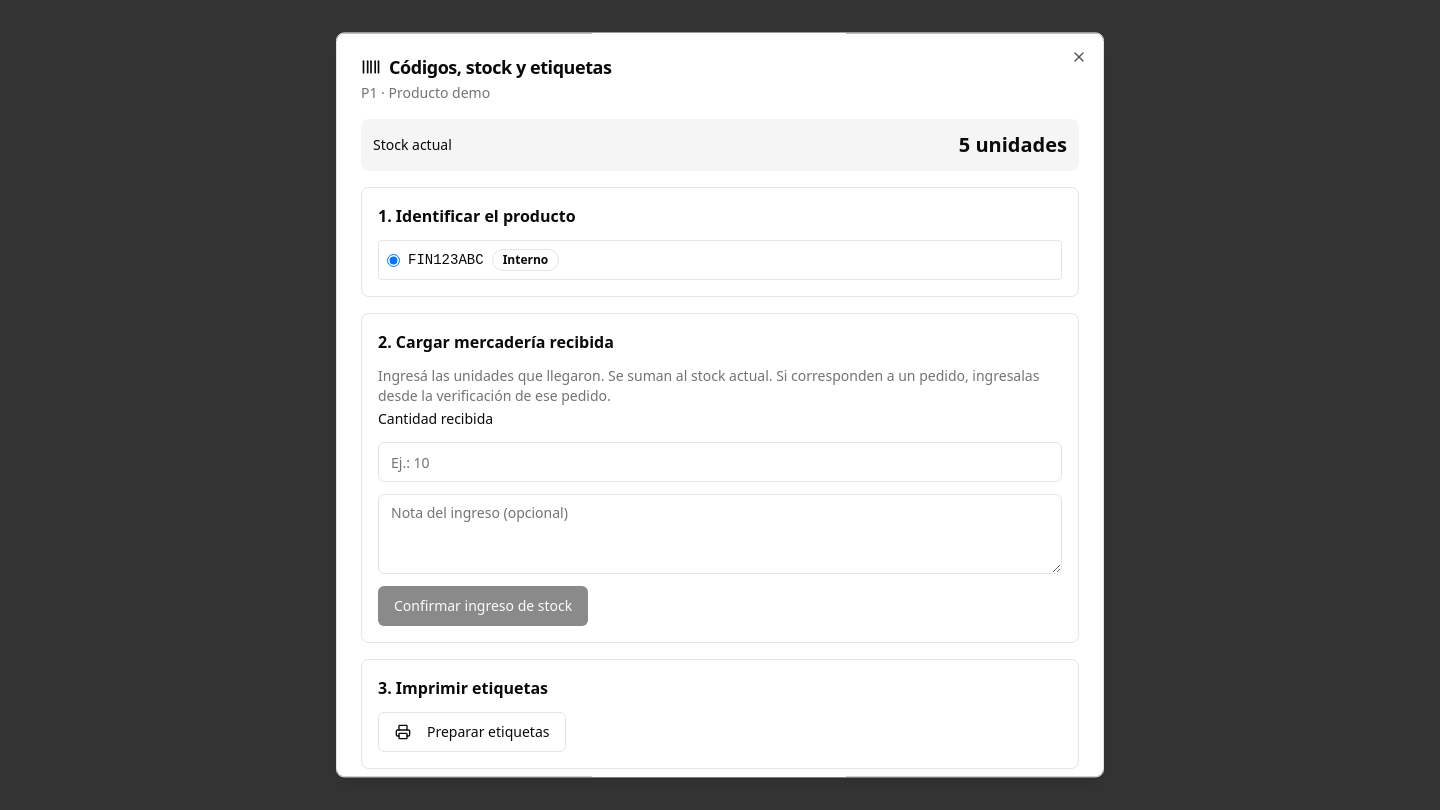
Test: respects existing seller permissions on barcode creation while allowing stock entry
Expected: the text "FIN123ABC" is shown, x1=408 y1=250 x2=484 y2=270
In the number field labelled "Cantidad recibida": (720, 462) x1=378 y1=442 x2=1062 y2=482, type "3"
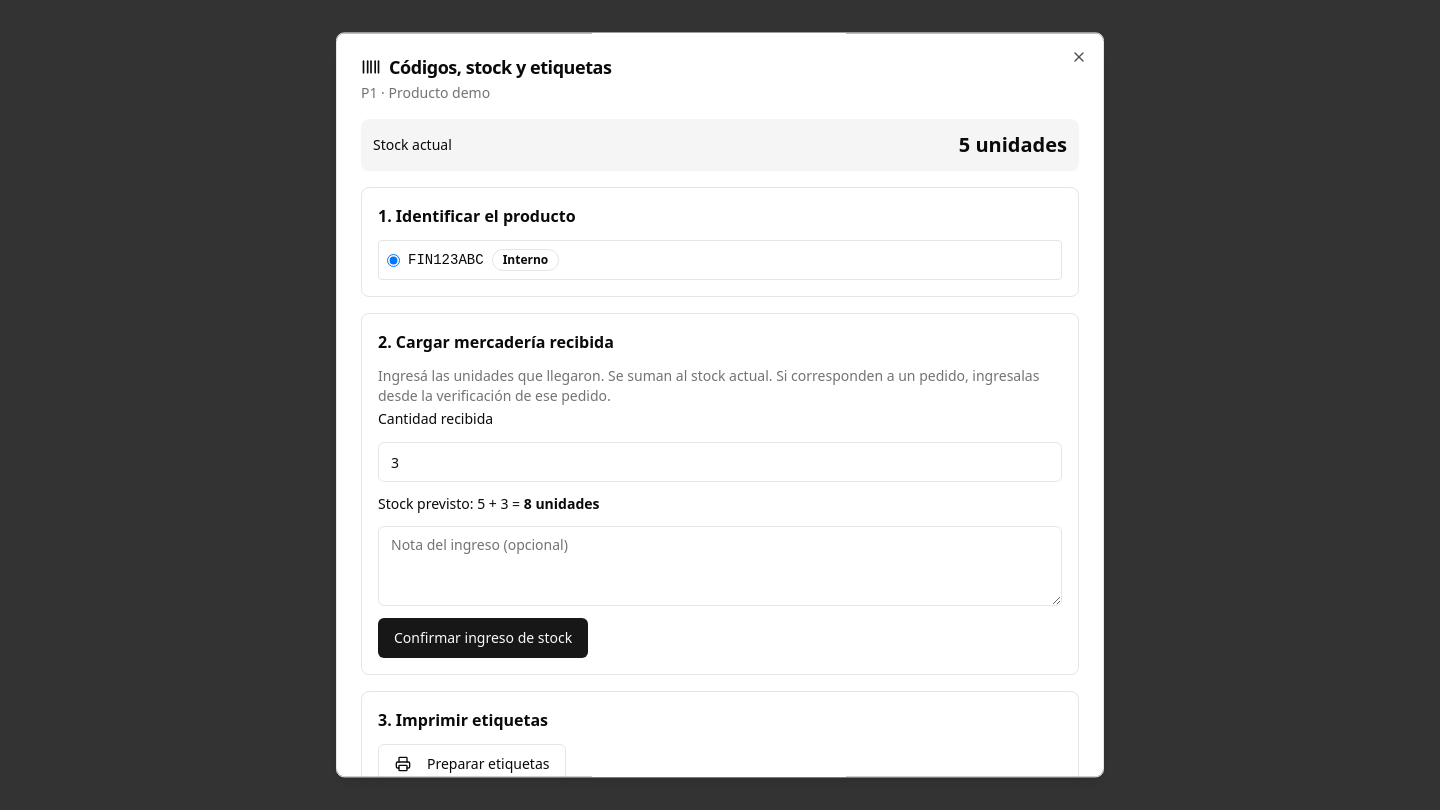
Expected: the button "Confirmar ingreso de stock" is enabled, x1=378 y1=618 x2=588 y2=658
